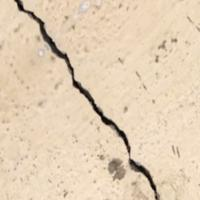crack: (15, 1, 164, 200)
